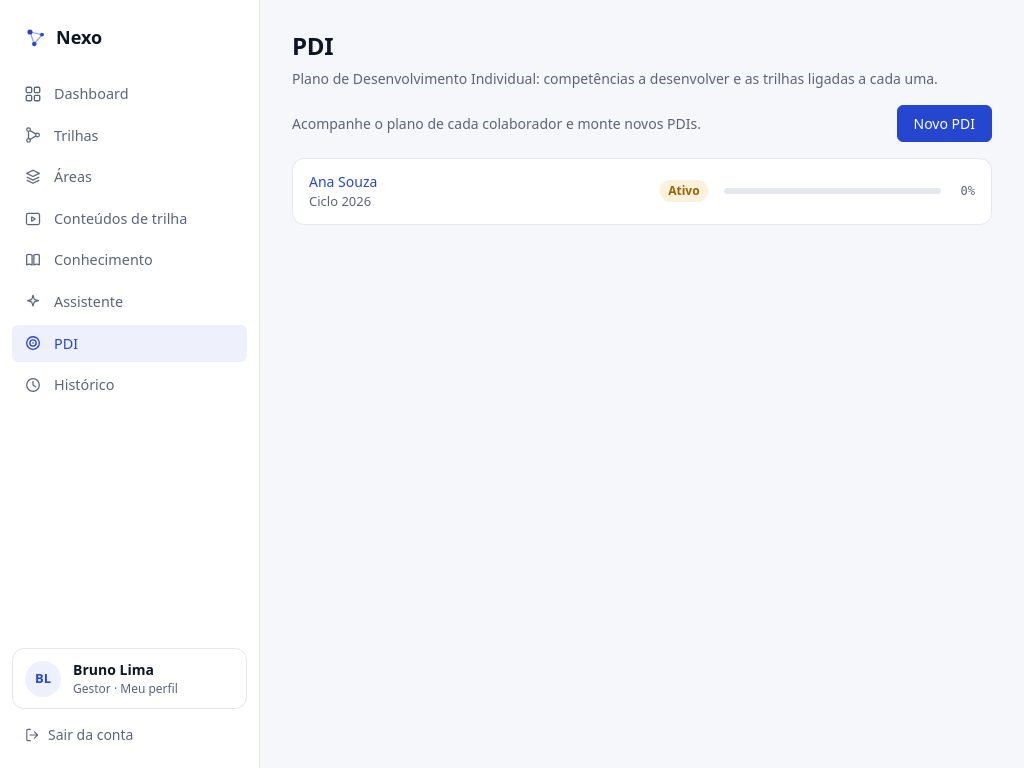
PdiPage — PDIs da equipe › valida os campos antes de enviar
Click the button "Novo PDI" at (944, 124), box 896,105 -> 992,142
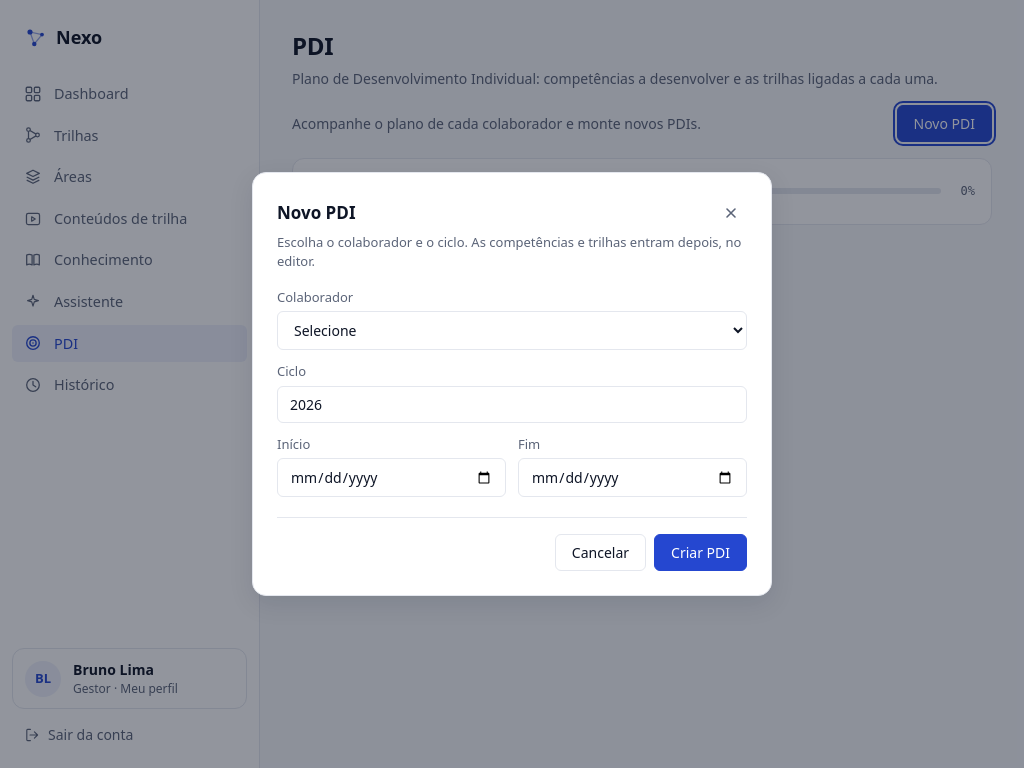
Type "2026-12-31" into the date field labelled "Início" at (392, 478), box 277,458 -> 506,497
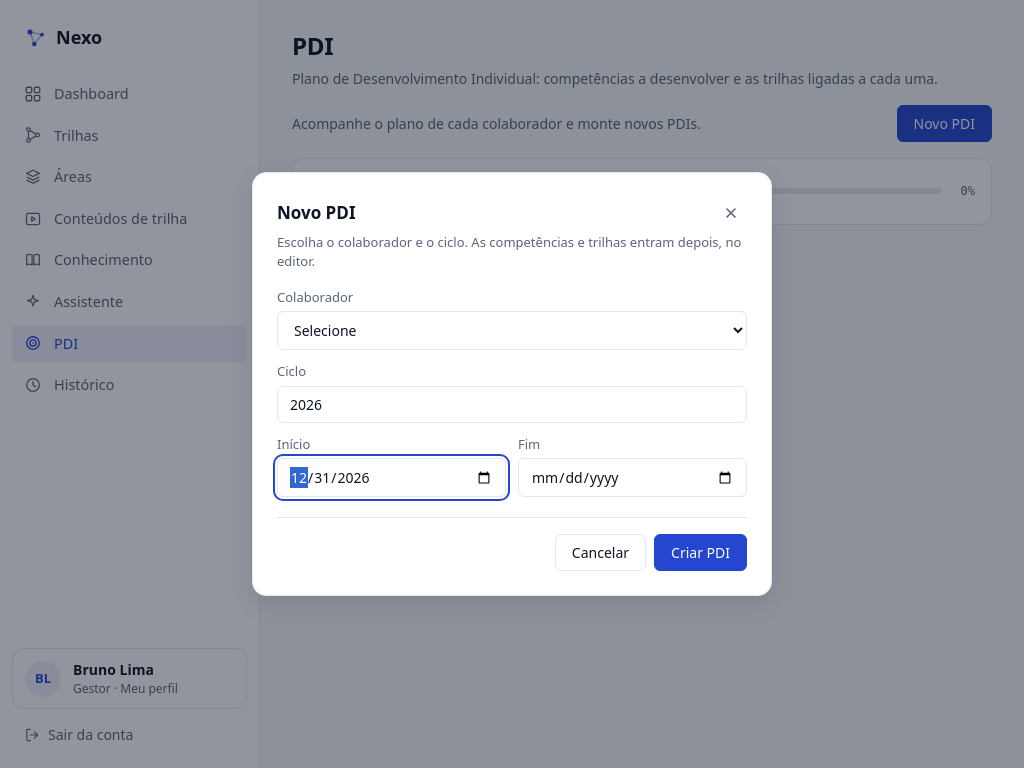
Type "2026-01-01" into the date field labelled "Fim" at (632, 478), box 518,458 -> 747,497
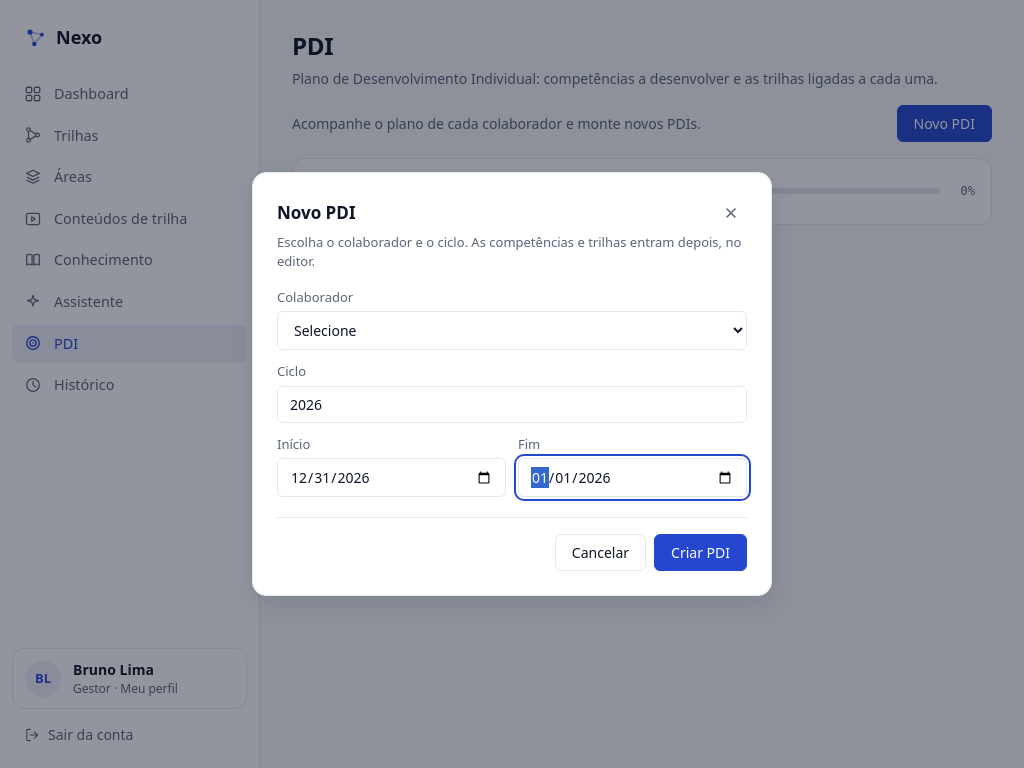
Click the button "Criar PDI" at (700, 553), box 654,534 -> 747,571
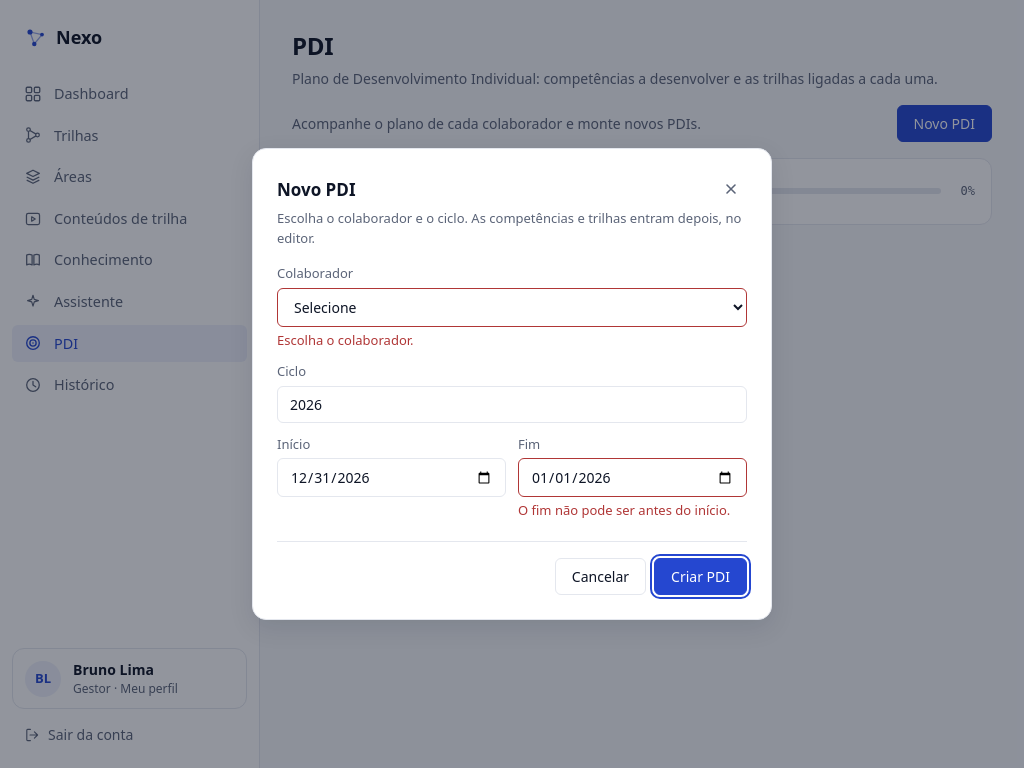
Expected: the text "Escolha o colaborador." is shown, 277,331 -> 414,349
Expected: the text "O fim não pode ser antes do início." is shown, 518,501 -> 747,521
